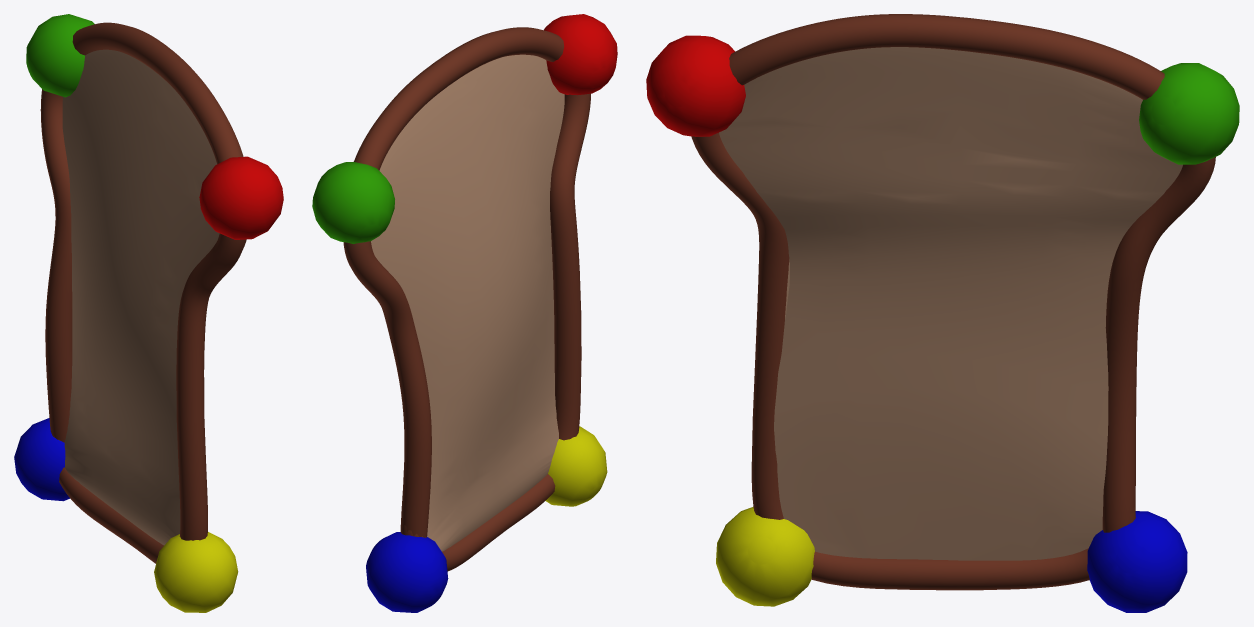
The model's file is myAsset_breadxyz.fbx.
3 views of the same model, side by side, from view 1: azimuth 30°, elevation 25°; view 2: azimuth 150°, elevation 25°; view 3: azimuth 270°, elevation 25° (orthographic). The views are drawn at different scales.
Parts seen in each view (by area): view 1: n.0020, s.0016, s.0023, s.0022, s.0024, s.0021; view 2: n.0020, s.0016, s.0024, s.0021, s.0023, s.0022; view 3: n.0020, s.0016, s.0024, s.0023, s.0021, s.0022.
Part boxes in pixels (bbox=[...]): n.0020: bbox=[62, 49, 219, 545]; s.0016: bbox=[40, 22, 246, 563]; s.0023: bbox=[199, 156, 283, 239]; s.0022: bbox=[154, 532, 238, 612]; s.0024: bbox=[26, 14, 94, 97]; s.0021: bbox=[14, 418, 69, 501]; n.0020: bbox=[371, 54, 564, 551]; s.0016: bbox=[343, 27, 590, 571]; s.0024: bbox=[312, 162, 394, 243]; s.0021: bbox=[366, 532, 448, 612]; s.0023: bbox=[544, 14, 617, 95]; s.0022: bbox=[545, 426, 607, 506]; n.0020: bbox=[719, 47, 1182, 560]; s.0016: bbox=[691, 14, 1215, 590]; s.0024: bbox=[1139, 63, 1239, 164]; s.0023: bbox=[646, 35, 745, 136]; s.0021: bbox=[1087, 511, 1187, 612]; s.0022: bbox=[716, 507, 814, 606].
Size of the model in its own units: 2.83 by 10.22 by 11.61.
